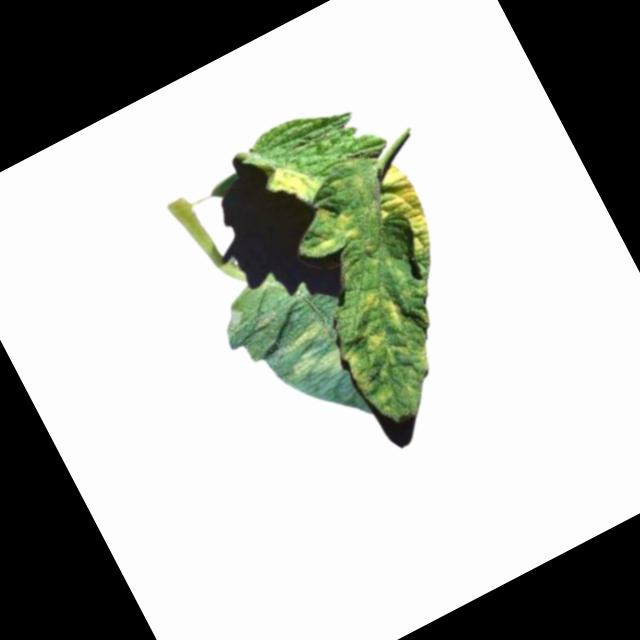Leaf_Mold: (364, 157, 451, 276), (269, 316, 348, 392), (342, 279, 414, 353), (301, 195, 367, 258), (264, 156, 323, 214)
